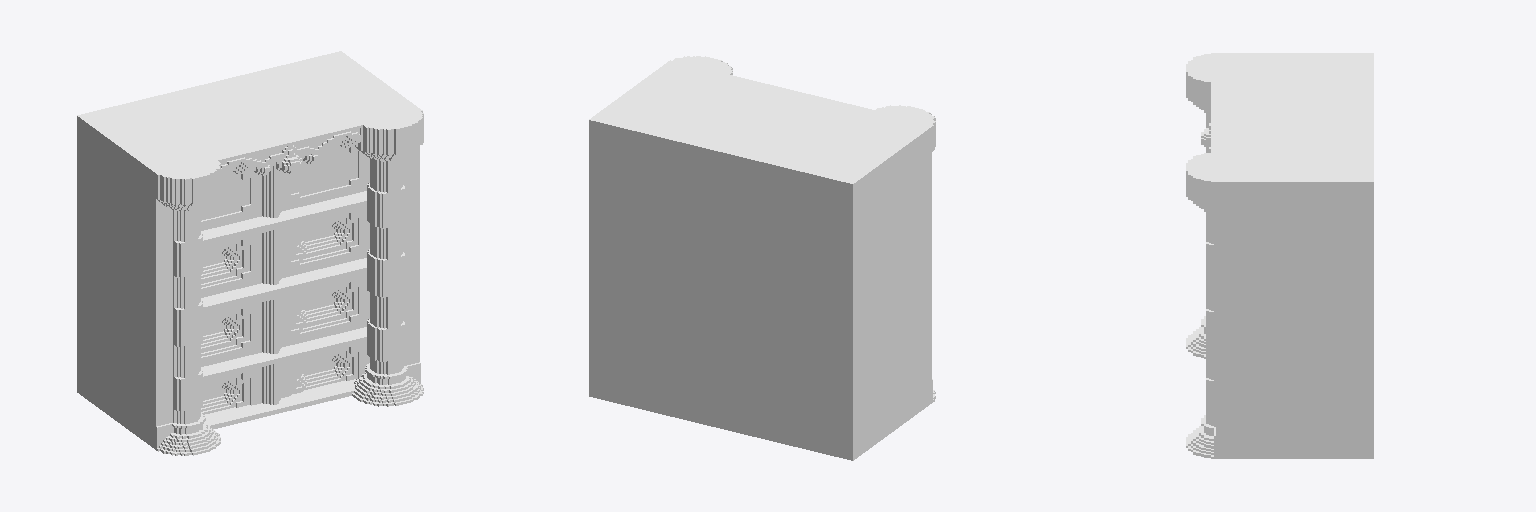
Rendered from bureau_mobilier-1.obj.
The picture shows the model from 3 angles: view 1: azimuth 30°, elevation 25°; view 2: azimuth 150°, elevation 25°; view 3: azimuth 270°, elevation 25°; orthographic projection.
Visible parts, largest first — view 1: object 1; view 2: object 1; view 3: object 1.
Part boxes in pixels (bbox=[...]): object 1: bbox=[77, 51, 423, 455]; object 1: bbox=[589, 56, 935, 460]; object 1: bbox=[1186, 53, 1373, 458].
Size of the model in its own units: 12 by 12 by 7.4.